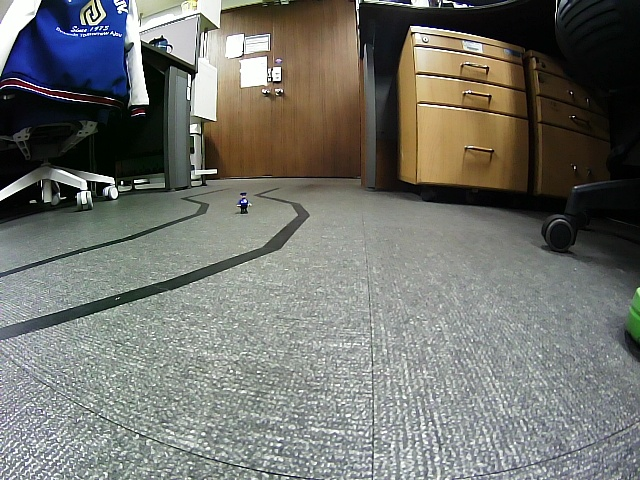person: (236, 193, 253, 215)
